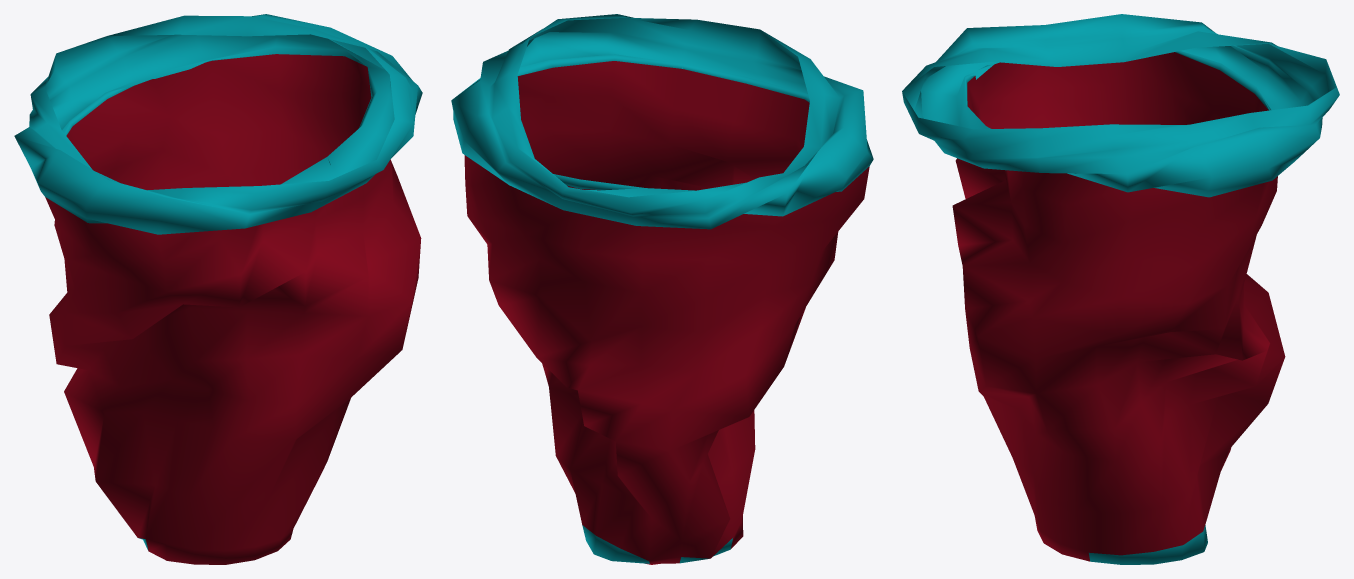
The model's file is Mesh_CoffeeCup_Crushed.fbx.
3 renders of one model, left to right at view 1: azimuth 30°, elevation 25°; view 2: azimuth 150°, elevation 25°; view 3: azimuth 270°, elevation 25°, orthographic. The views are drawn at different scales.
Parts seen in each view (by area): view 1: SodaCup_mid.001; view 2: SodaCup_mid.001; view 3: SodaCup_mid.001.
Boxes of the visible parts, x1=… form: SodaCup_mid.001: x1=14, y1=14, x2=422, y2=564; SodaCup_mid.001: x1=451, y1=14, x2=873, y2=564; SodaCup_mid.001: x1=902, y1=14, x2=1339, y2=564.
Size of the model in its own units: 14.93 by 18.19 by 14.9.
